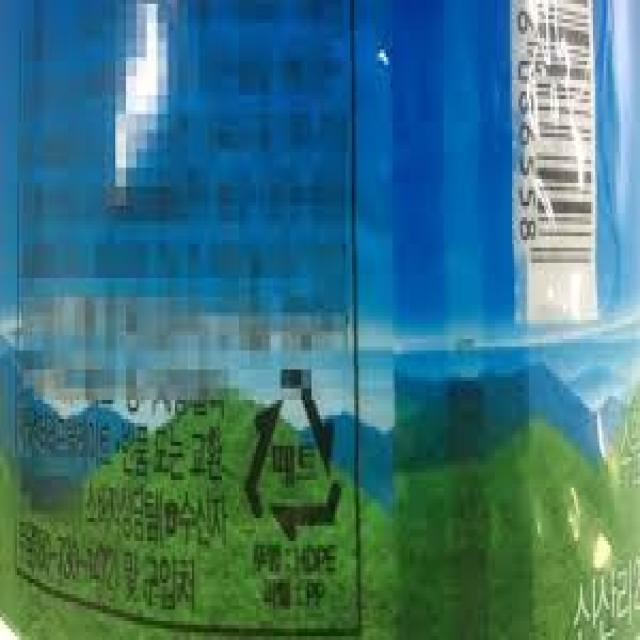PET: (242, 362, 346, 545)
